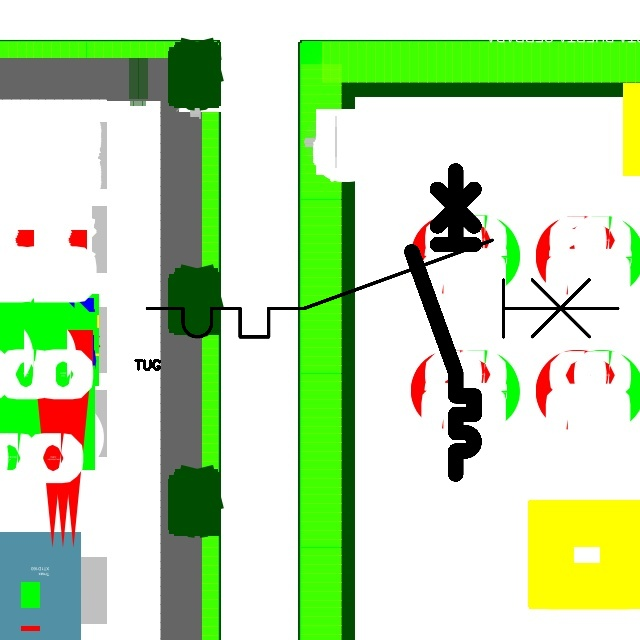interruptor_termomagnetico: (135, 228, 630, 349), (404, 163, 482, 482)
